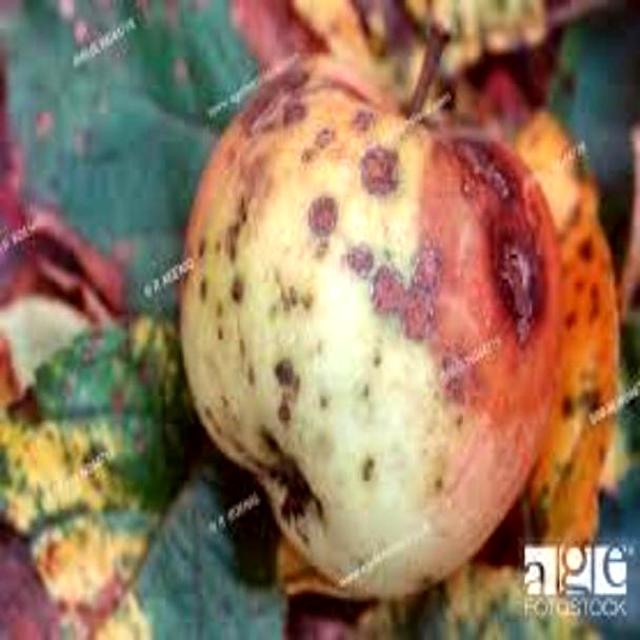SCAB: (181, 51, 546, 594)
